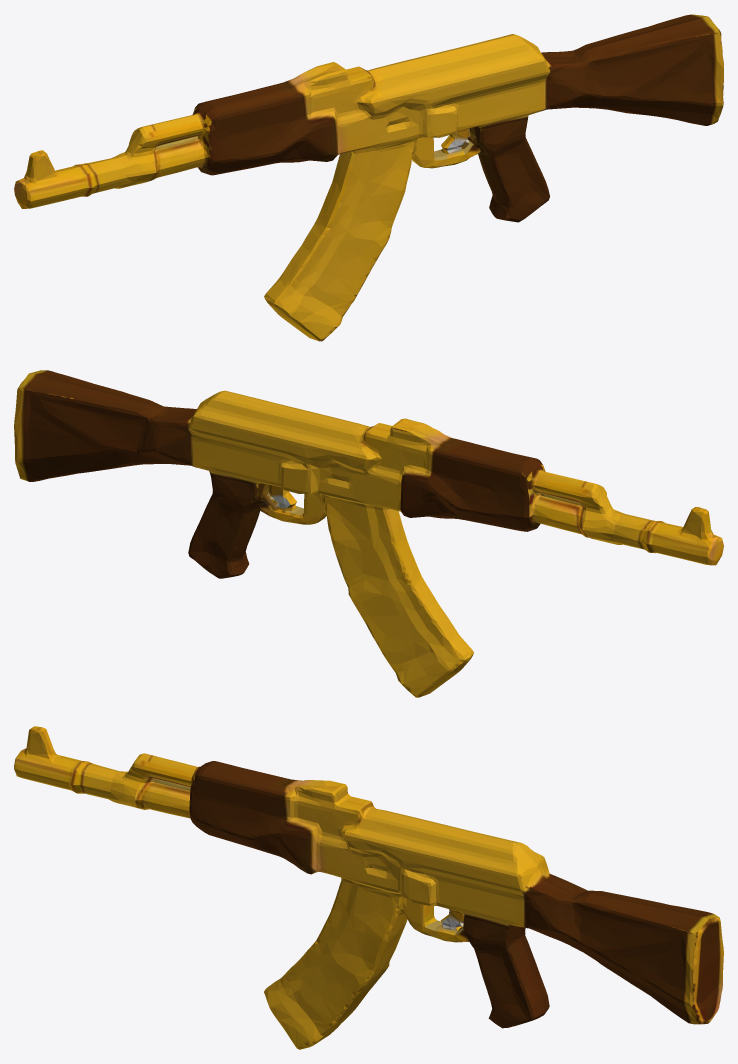
File: 4ffebcdb-d111-4ed2-8ac4-25049d18f86e.glb
The picture shows the model from 3 angles, top to bottom: view 1: azimuth 30°, elevation 25°; view 2: azimuth 150°, elevation 25°; view 3: azimuth 330°, elevation 25°; orthographic projection.
Visible parts, largest first — view 1: tmp4573vomn.ply; view 2: tmp4573vomn.ply; view 3: tmp4573vomn.ply.
Boxes of the visible parts, x1,y1,x2,y2 form: tmp4573vomn.ply: (14,14,723,341); tmp4573vomn.ply: (14,370,723,697); tmp4573vomn.ply: (14,726,723,1049).
Size of the model in its own units: 1.99 by 0.7315 by 0.1565.
Materials: 1 (1 with a texture image).
